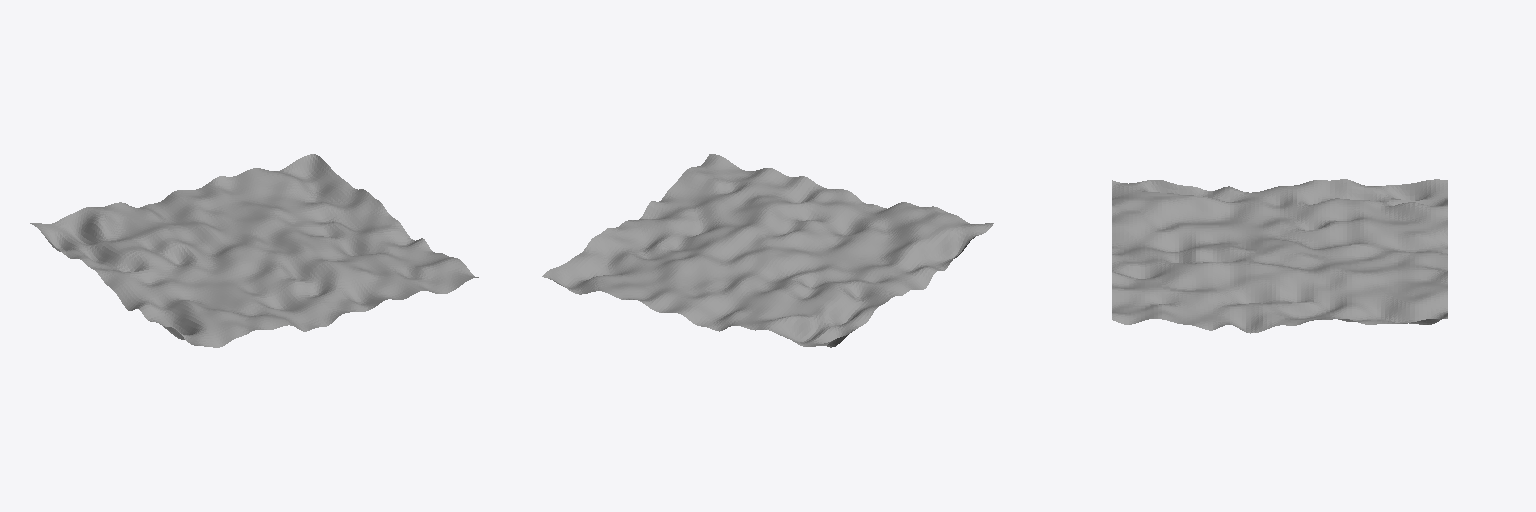
The model's file is ocean.obj.
The picture shows the model from 3 angles: view 1: azimuth 30°, elevation 25°; view 2: azimuth 150°, elevation 25°; view 3: azimuth 270°, elevation 25°; orthographic projection.
Parts seen in each view (by area): view 1: Plane01; view 2: Plane01; view 3: Plane01.
Part boxes in pixels (x1,y1,x2,y2): Plane01: (30, 154, 478, 347); Plane01: (542, 154, 993, 347); Plane01: (1112, 179, 1447, 333).
Size of the model in its own units: 116 by 8.52 by 119.